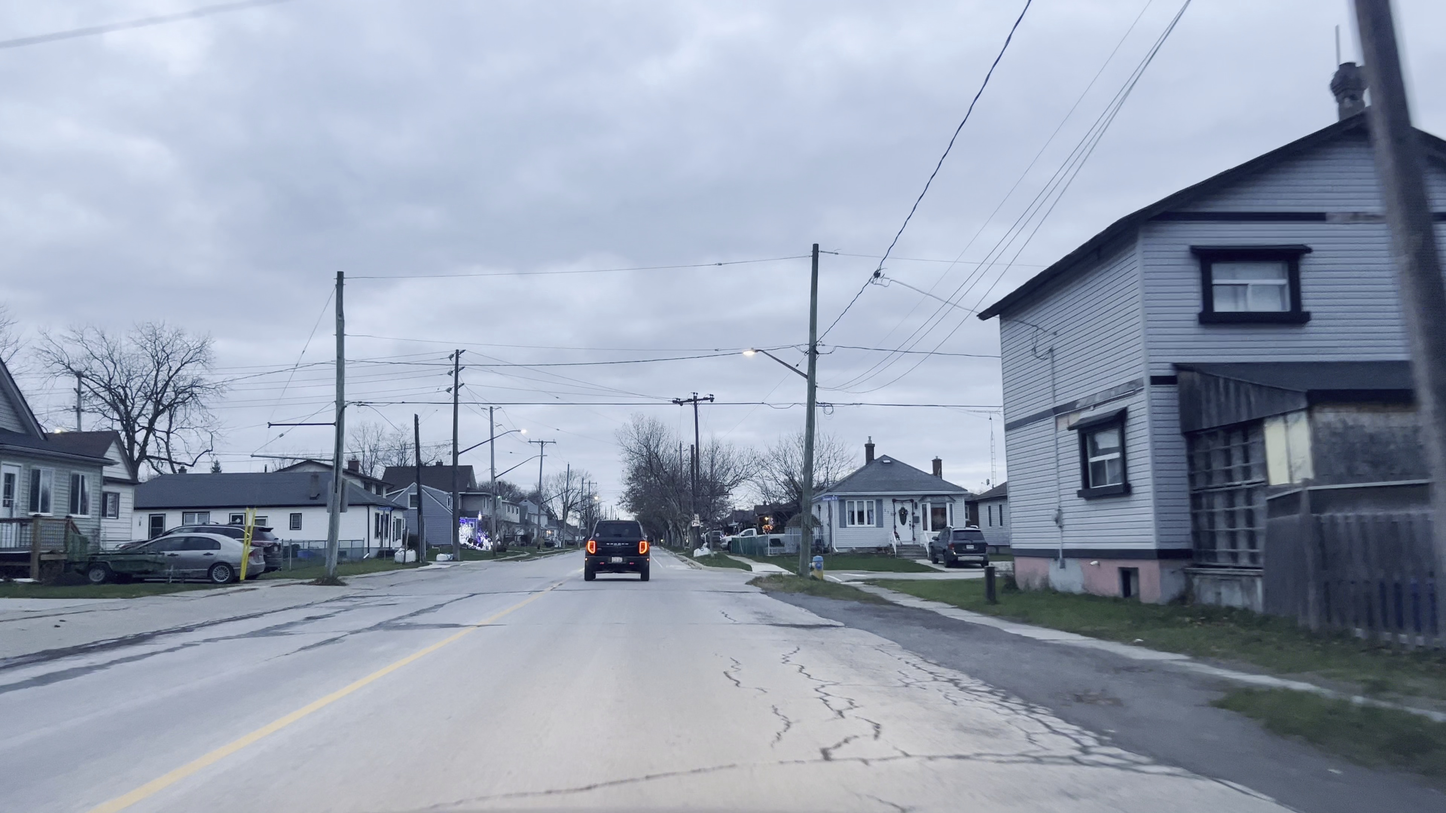cracks: (909, 659, 1138, 772), (784, 638, 887, 761), (480, 752, 761, 787), (723, 657, 763, 699)
